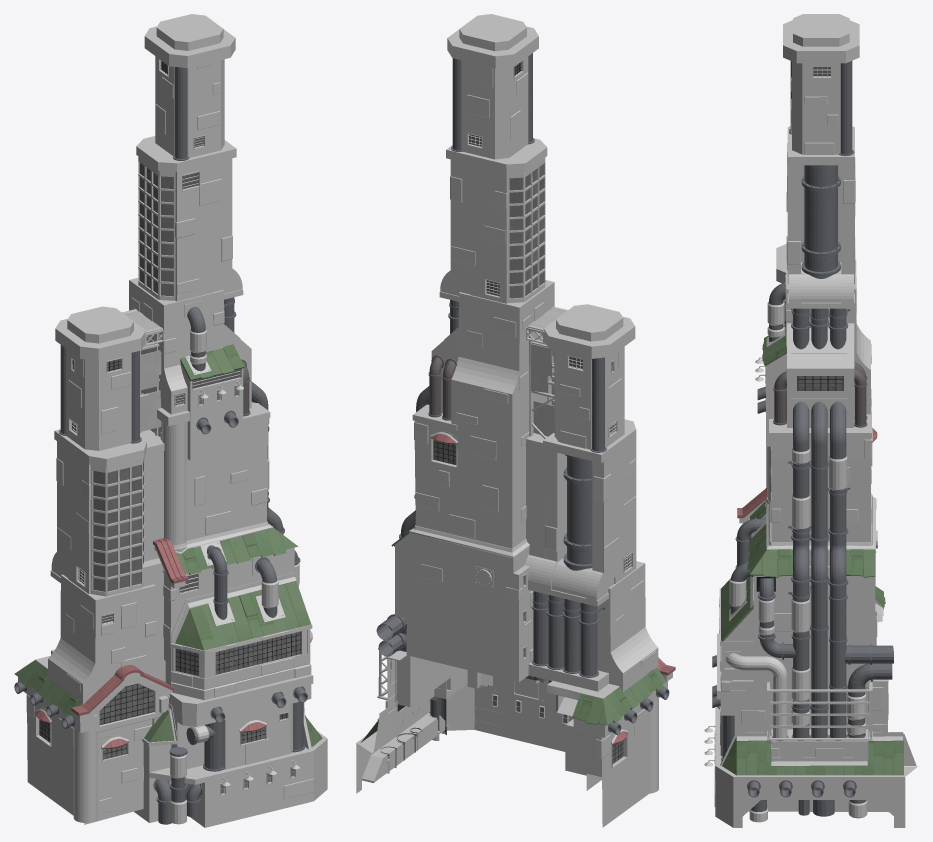
File: AreaI_Building_Ab.fbx
3 views of the same model, side by side, from view 1: azimuth 30°, elevation 25°; view 2: azimuth 150°, elevation 25°; view 3: azimuth 270°, elevation 25° (orthographic).
Parts seen in each view (by area): view 1: SM_ENV_AMVLLG02_AreaI_Building_Ab.mo; view 2: SM_ENV_AMVLLG02_AreaI_Building_Ab.mo; view 3: SM_ENV_AMVLLG02_AreaI_Building_Ab.mo.
Part boxes in pixels (x1,y1,x2,y2): SM_ENV_AMVLLG02_AreaI_Building_Ab.mo: (14,14,327,827); SM_ENV_AMVLLG02_AreaI_Building_Ab.mo: (356,14,675,827); SM_ENV_AMVLLG02_AreaI_Building_Ab.mo: (704,14,917,827).
Size of the model in its own units: 2577 by 7416 by 1903.
